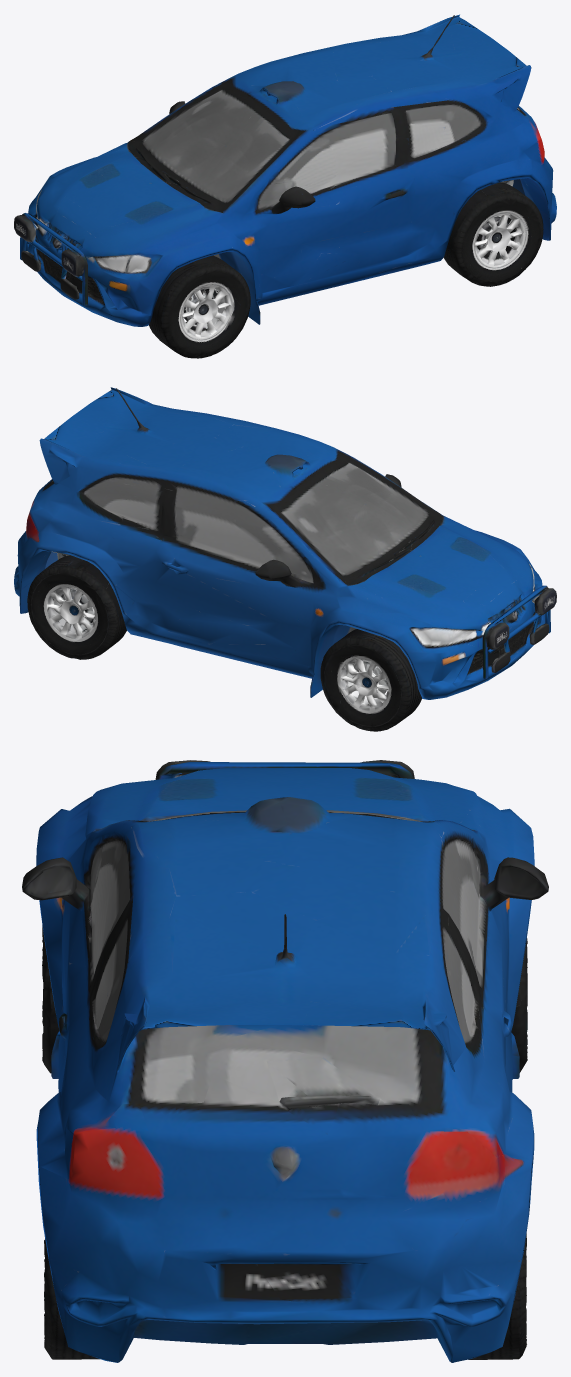
Rendered from car_grip.glb.
3 renders of one model, top to bottom at view 1: azimuth 30°, elevation 25°; view 2: azimuth 150°, elevation 25°; view 3: azimuth 270°, elevation 25°, orthographic. The views are drawn at different scales.
Size of the model in its own units: 1.9 by 0.8557 by 0.9088.
1 material, 1 textured.
